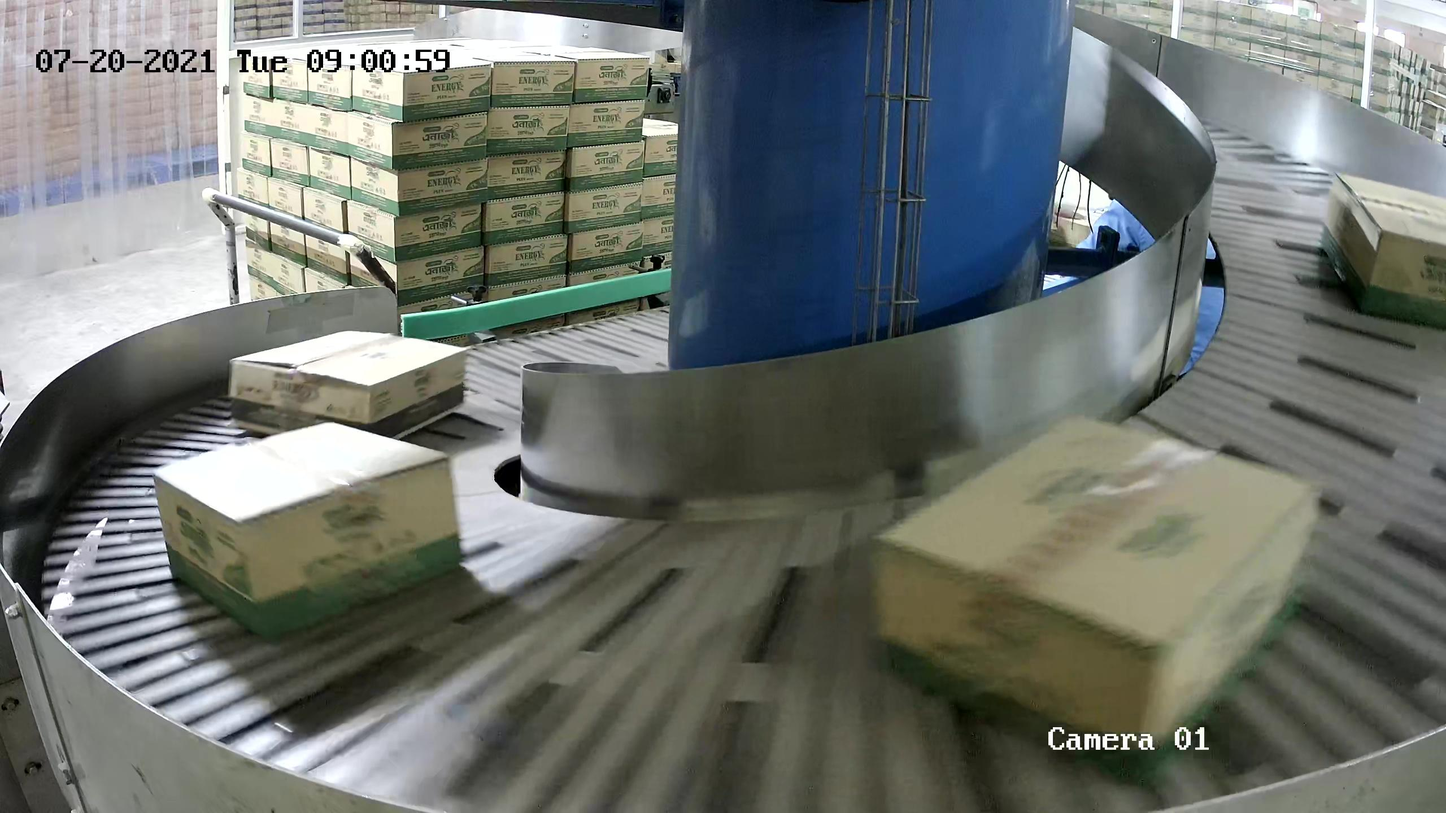Box: (868, 408, 1325, 789), (151, 418, 467, 641), (224, 325, 471, 439), (1316, 167, 1446, 326)
